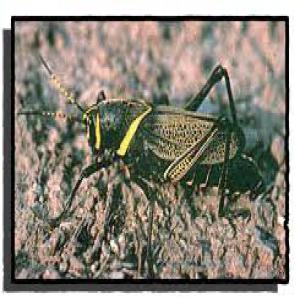locust: (64, 91, 265, 172)
